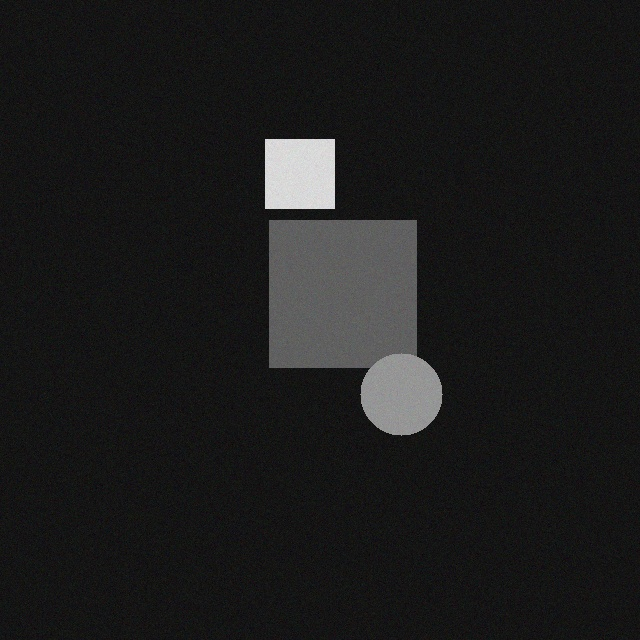circle: (371, 341, 453, 423)
square: (280, 208, 427, 355), (276, 127, 345, 196)
